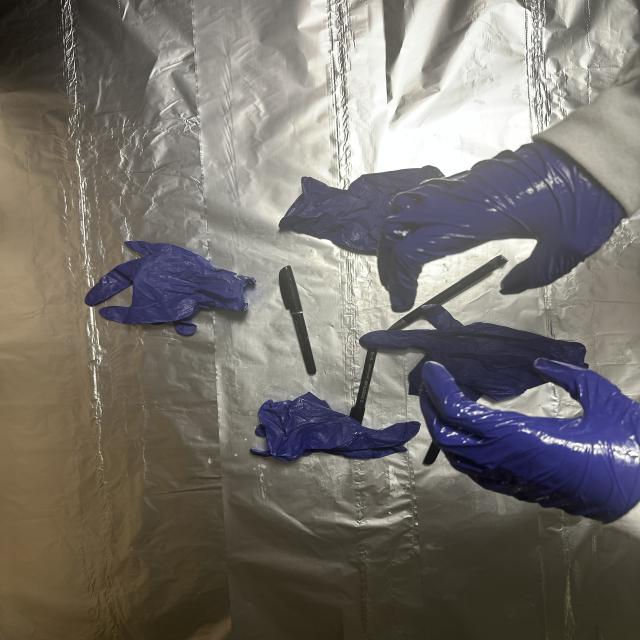gloves_contaminated: (378, 143, 623, 311), (420, 358, 640, 524)
